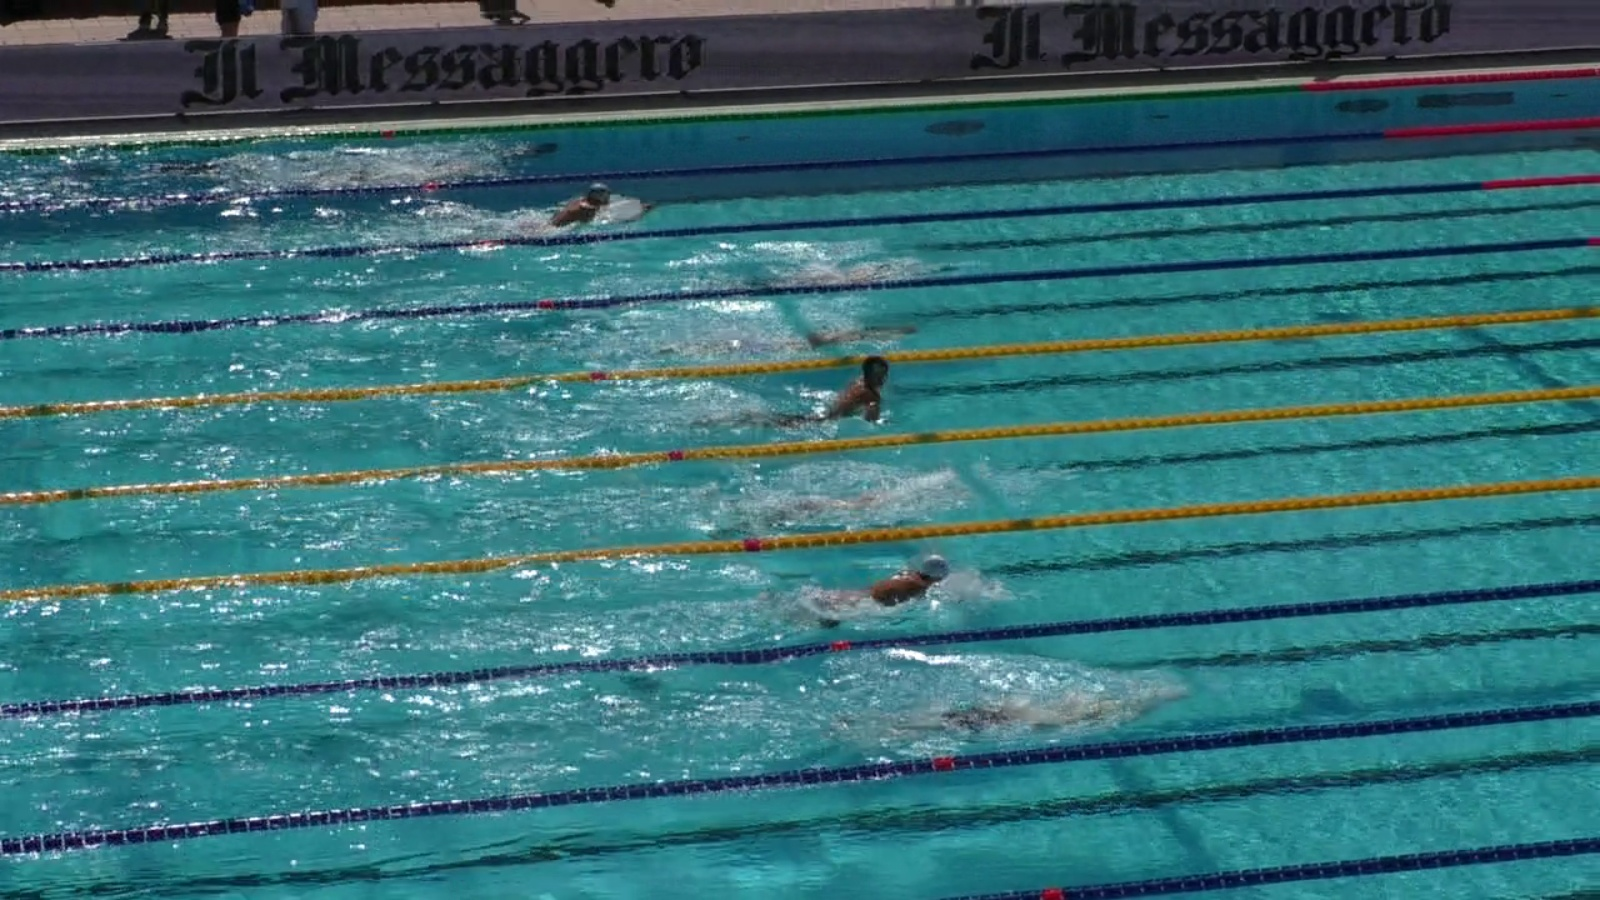swimmerwdd: (695, 359, 898, 427), (767, 555, 962, 613), (898, 696, 1113, 738), (478, 184, 654, 233), (749, 481, 969, 516), (316, 148, 566, 179), (678, 323, 913, 353), (759, 259, 951, 289)
